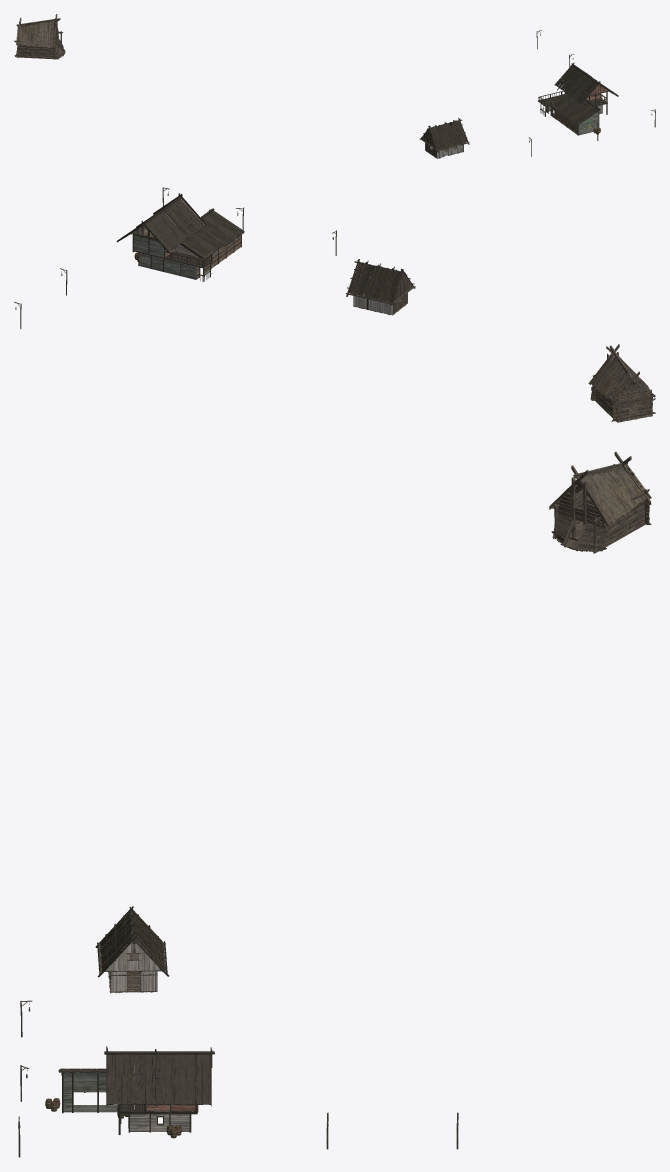
The model's file is village_v4.glb.
3 views of the same model, one above another, from view 1: azimuth 30°, elevation 25°; view 2: azimuth 150°, elevation 25°; view 3: azimuth 270°, elevation 25° (orthographic). The views are drawn at different scales.
Visible parts, largest first — view 1: Cantina_Main_v2, V_Small_Hut, House_01_v2; view 2: Cantina_Main_v2, V_Small_Hut, House_01_v2; view 3: Cantina_Main_v2, V_Small_Hut, House_01_v2.
Part boxes in pixels (x1=…): Cantina_Main_v2: x1=538, y1=62, x2=618, y2=135; V_Small_Hut: x1=14, y1=14, x2=65, y2=59; House_01_v2: x1=419, y1=118, x2=469, y2=158; Cantina_Main_v2: x1=116, y1=193, x2=244, y2=281; V_Small_Hut: x1=588, y1=344, x2=655, y2=422; House_01_v2: x1=345, y1=259, x2=415, y2=315; Cantina_Main_v2: x1=58, y1=1046, x2=214, y2=1134; V_Small_Hut: x1=549, y1=451, x2=651, y2=553; House_01_v2: x1=95, y1=906, x2=169, y2=993.
Size of the model in its own units: 130 by 30.56 by 72.33.
11 materials, 7 textured.
